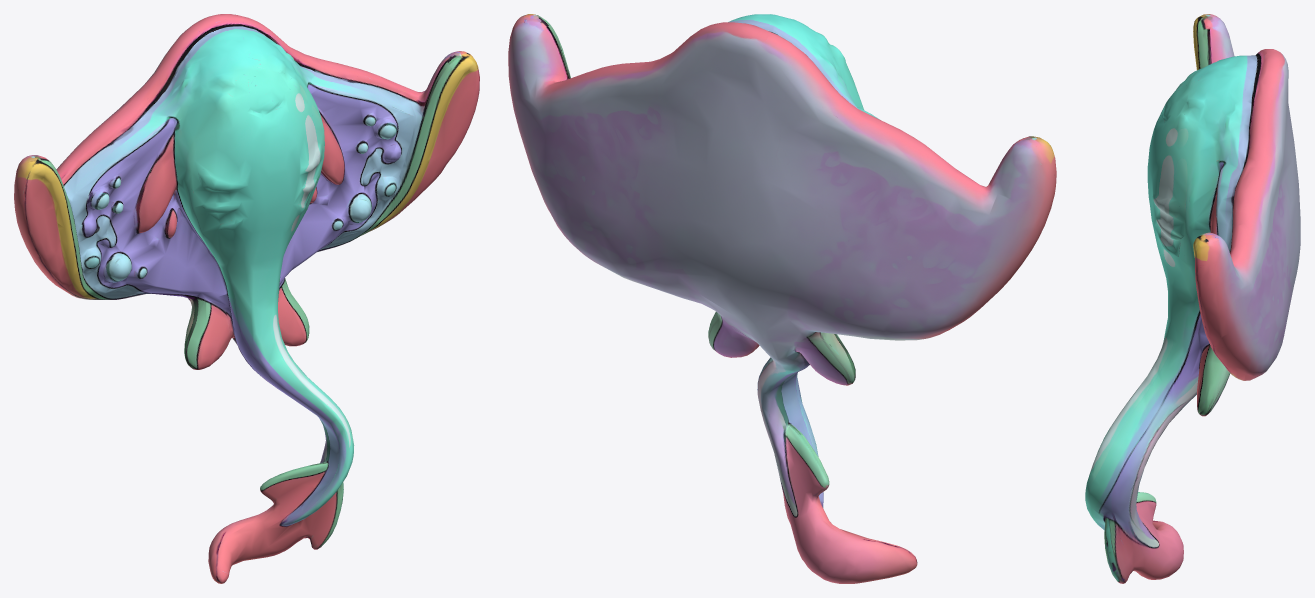
File: static.glb
3 views of the same model, side by side, from view 1: azimuth 30°, elevation 25°; view 2: azimuth 150°, elevation 25°; view 3: azimuth 270°, elevation 25° (orthographic). The views are drawn at different scales.
Visible parts, largest first — view 1: Mesh_0; view 2: Mesh_0; view 3: Mesh_0.
Part boxes in pixels (left/top/right/bottom): Mesh_0: left=14, top=14, right=479, bottom=583; Mesh_0: left=508, top=14, right=1056, bottom=583; Mesh_0: left=1085, top=14, right=1300, bottom=583.
Size of the model in its own units: 1.82 by 1.9 by 0.7025.
1 material, 1 textured.
